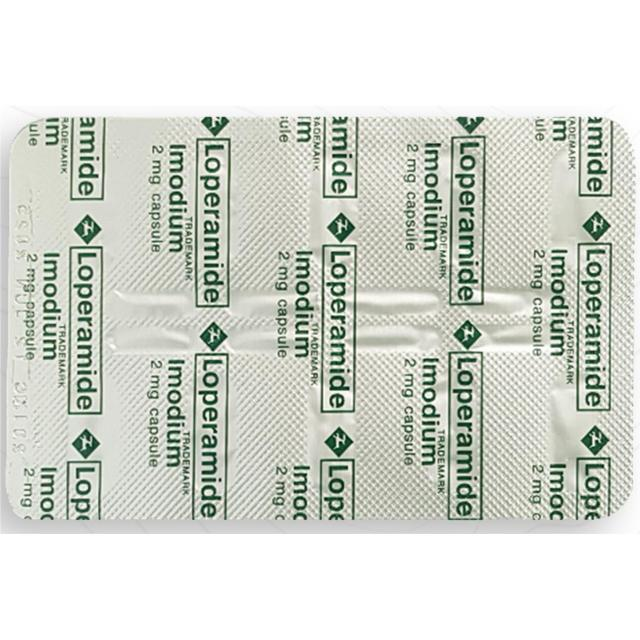blister: (1, 120, 635, 526)
